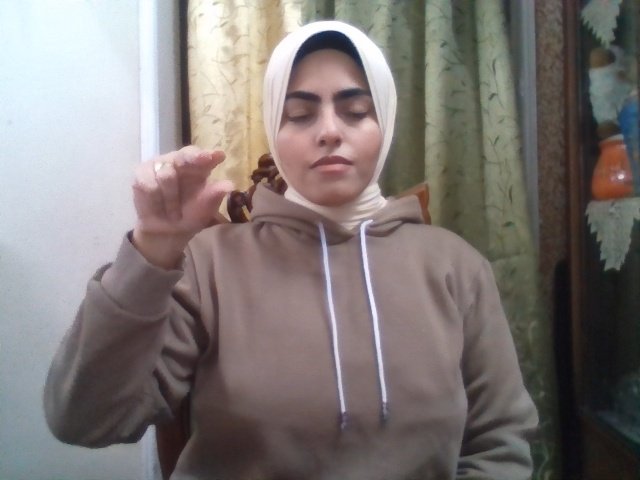no: (131, 145, 234, 238)
